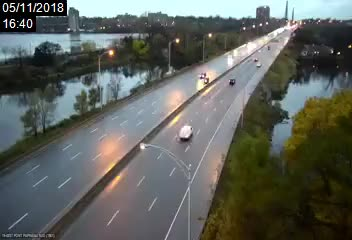personal_car: (178, 125, 192, 141), (228, 78, 236, 85), (202, 77, 210, 84), (199, 72, 207, 79), (256, 62, 262, 67), (253, 57, 259, 62)
